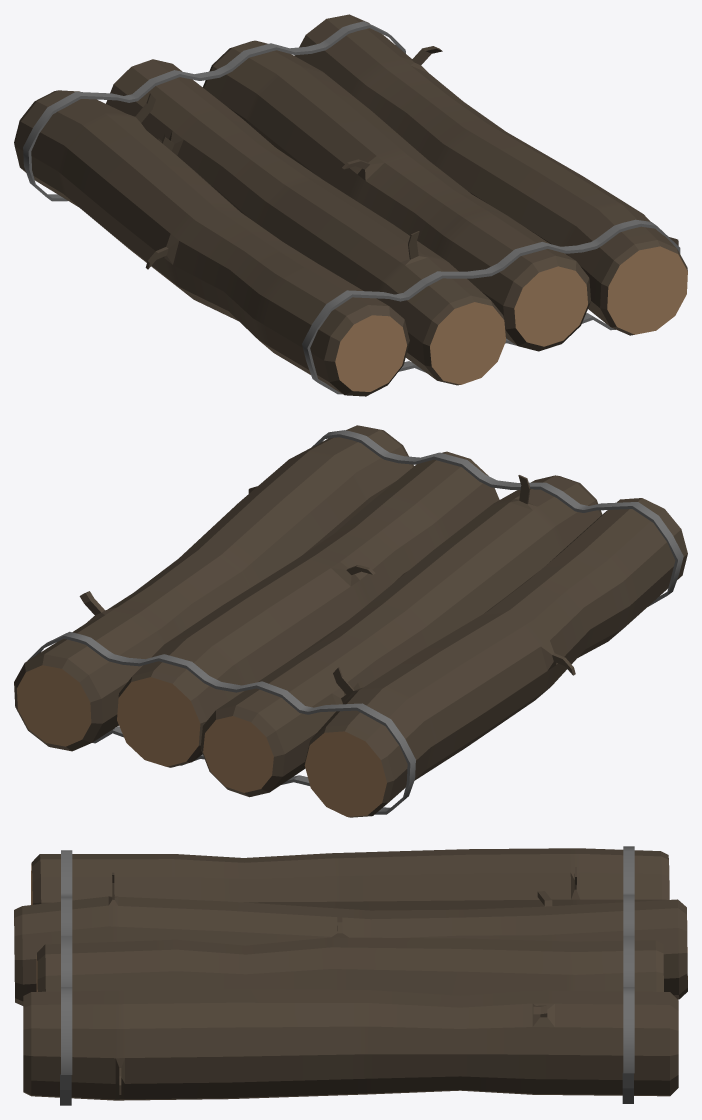
File: raft.fbx
3 views of the same model, one above another, from view 1: azimuth 30°, elevation 25°; view 2: azimuth 150°, elevation 25°; view 3: azimuth 270°, elevation 25° (orthographic). The views are drawn at different scales.
Parts seen in each view (by area): view 1: log1, log3, log2, log4, pPlane1, pasted__pPlane1; view 2: log1, log3, log4, log2, pasted__pPlane1, pPlane1; view 3: log4, log1, log3, log2, pasted__pPlane1, pPlane1.
Boxes of the visible parts, x1,y1,x2,y2 form: log1: (14, 90, 409, 396); log3: (202, 40, 590, 351); log2: (106, 59, 505, 385); log4: (294, 14, 687, 335); pPlane1: (302, 219, 680, 394); pasted__pPlane1: (23, 21, 405, 201); log1: (304, 498, 687, 817); log3: (117, 451, 499, 767); log4: (14, 425, 413, 751); log2: (200, 475, 602, 797); pasted__pPlane1: (27, 631, 415, 814); pPlane1: (311, 430, 683, 606); log4: (23, 989, 678, 1100); log1: (31, 848, 669, 910); log3: (36, 917, 663, 995); log2: (14, 872, 687, 1005); pasted__pPlane1: (622, 846, 634, 1103); pPlane1: (60, 850, 72, 1105).
Size of the model in its own units: 4.56 by 1.3 by 6.03.
